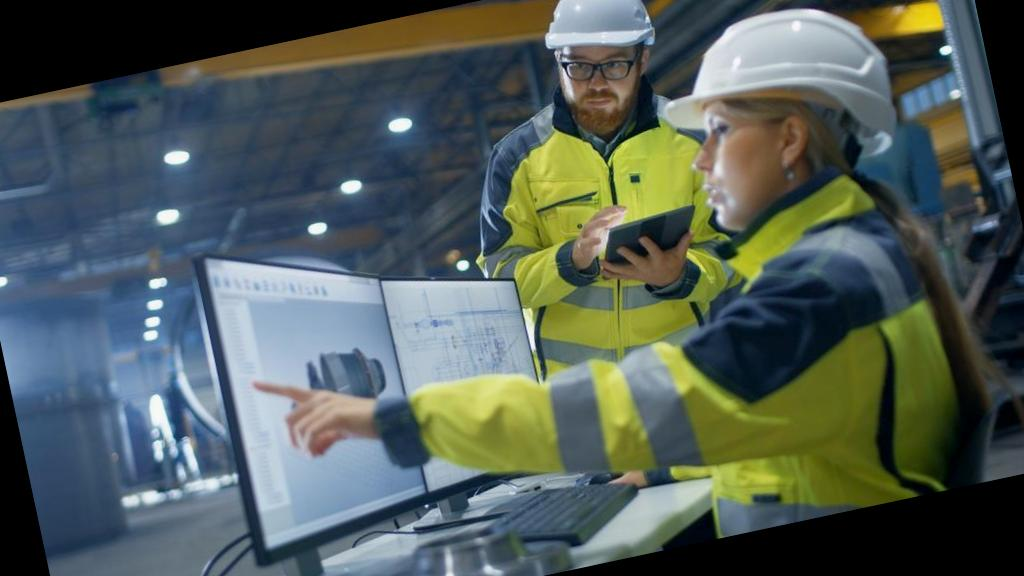helmet: (639, 0, 915, 193), (522, 0, 668, 71)
person: (644, 0, 1003, 532), (434, 0, 744, 390)
